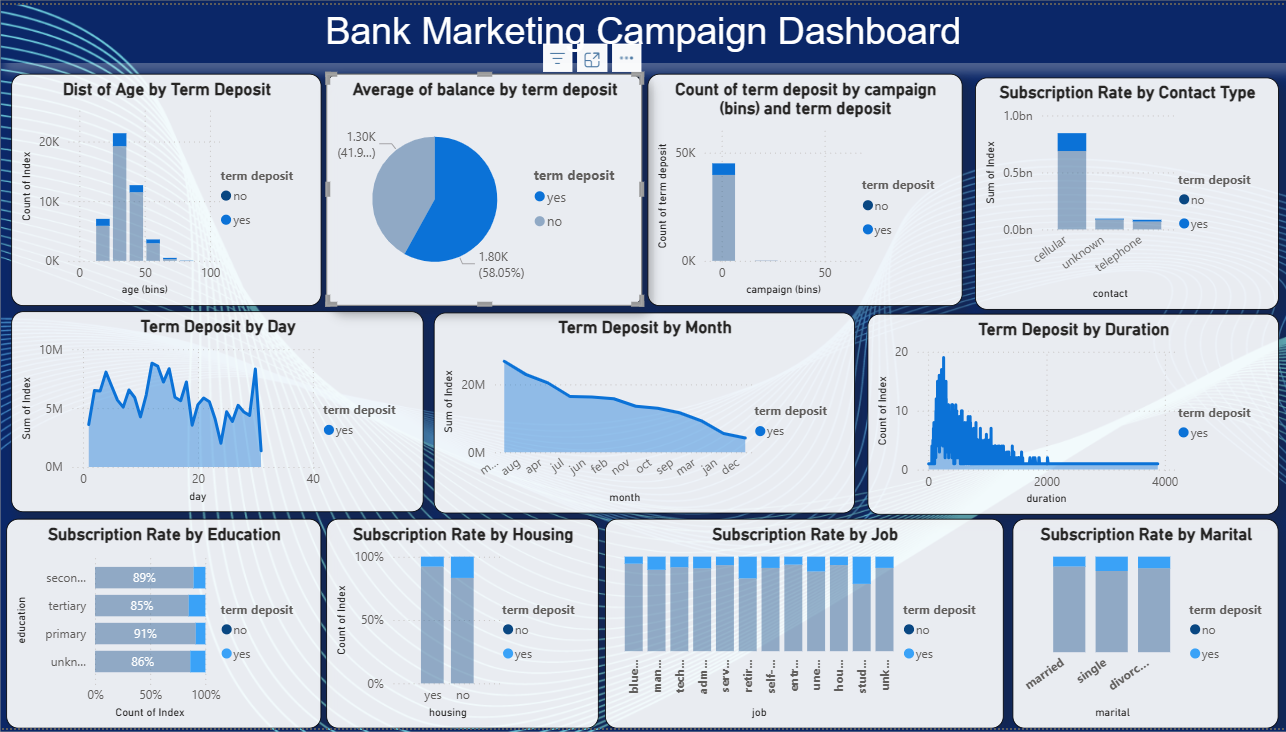

The page's visual inventory and layout, read from the dashboard file:
{"tool":"powerbi","page":{"name":"Page 1","canvas":[1280,720],"ordinal":0},"visuals":[{"type":"textbox","box":[0,0,1280.3,57.5],"z":0},{"type":"columnChart","title":"Dist of Age by Term Deposit","fields":{"Y":["CountNonNull(Bank Marketing.Index)"],"Category":["Bank Marketing.age (bins)"],"Series":["Bank Marketing.term deposit"]},"box":[11.2,68.4,308.6,231.4],"z":1000},{"type":"pieChart","fields":{"Category":["Bank Marketing.term deposit"],"Y":["Avg(Bank Marketing.balance)"]},"box":[324.7,68.4,314.8,231.4],"z":2000},{"type":"columnChart","fields":{"Category":["Bank Marketing.campaign (bins)"],"Y":["CountNonNull(Bank Marketing.term deposit)"],"Series":["Bank Marketing.term deposit"]},"box":[644.5,68.4,313.5,231.4],"z":3000},{"type":"columnChart","title":"Subscription Rate by Contact Type","fields":{"Series":["Bank Marketing.term deposit"],"Category":["Bank Marketing.contact"],"Y":["Sum(Bank Marketing.Index)"]},"box":[970.5,72.2,302.3,231.4],"z":4000},{"type":"areaChart","title":"Term Deposit by Day","fields":{"Category":["Bank Marketing.day"],"Y":["Sum(Bank Marketing.Index)"],"Series":["Bank Marketing.term deposit"]},"box":[11.2,304.8,410.6,200.3],"z":5000},{"type":"areaChart","title":"Term Deposit by Month","fields":{"Y":["Sum(Bank Marketing.Index)"],"Series":["Bank Marketing.term deposit"],"Category":["Bank Marketing.month"]},"box":[431.7,306.1,419.3,200.3],"z":6000},{"type":"areaChart","title":"Term Deposit by Duration","fields":{"Y":["CountNonNull(Bank Marketing.Index)"],"Series":["Bank Marketing.term deposit"],"Category":["Bank Marketing.duration"]},"box":[863.5,307.3,409.3,200.3],"z":7000},{"type":"hundredPercentStackedBarChart","title":"Subscription Rate by Education","fields":{"Category":["Bank Marketing.education"],"Series":["Bank Marketing.term deposit"],"Y":["CountNonNull(Bank Marketing.Index)"]},"box":[6.2,511,313.5,209],"z":8000},{"type":"hundredPercentStackedColumnChart","title":"Subscription Rate by Housing","fields":{"Category":["Bank Marketing.housing"],"Series":["Bank Marketing.term deposit"],"Y":["CountNonNull(Bank Marketing.Index)"]},"box":[324.7,511,271.2,209],"z":9000},{"type":"hundredPercentStackedColumnChart","title":"Subscription Rate by Job","fields":{"Series":["Bank Marketing.term deposit"],"Y":["CountNonNull(Bank Marketing.Index)"],"Category":["Bank Marketing.job"]},"box":[602.2,511,396.9,209],"z":10000},{"type":"hundredPercentStackedColumnChart","title":"Subscription Rate by Marital","fields":{"Series":["Bank Marketing.term deposit"],"Y":["CountNonNull(Bank Marketing.Index)"],"Category":["Bank Marketing.marital"]},"box":[1007.8,511,265,209],"z":11000}]}

Visuals, with their boxes in screenshot pixels (x1, y1, x2, y2), scaled from the page's 1280x720 canvas onto the 1286x732 screenshot:
textbox: 0,0,1285,58
"Dist of Age by Term Deposit" columnChart: 11,70,321,305
pieChart - Bank Marketing.term deposit x Avg(Bank Marketing.balance): 326,70,642,305
columnChart - Bank Marketing.campaign (bins) x CountNonNull(Bank Marketing.term deposit): 648,70,962,305
"Subscription Rate by Contact Type" columnChart: 975,73,1279,309
"Term Deposit by Day" areaChart: 11,310,424,514
"Term Deposit by Month" areaChart: 434,311,855,515
"Term Deposit by Duration" areaChart: 868,312,1279,516
"Subscription Rate by Education" hundredPercentStackedBarChart: 6,520,321,731
"Subscription Rate by Housing" hundredPercentStackedColumnChart: 326,520,599,731
"Subscription Rate by Job" hundredPercentStackedColumnChart: 605,520,1004,731
"Subscription Rate by Marital" hundredPercentStackedColumnChart: 1013,520,1279,731
